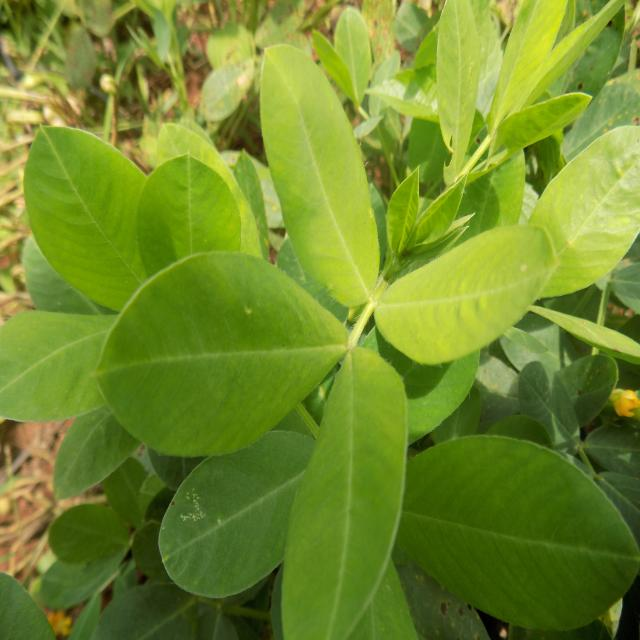Ground nut_healthy: (381, 432, 640, 627), (104, 254, 350, 455), (283, 346, 408, 640), (255, 43, 382, 307), (158, 428, 338, 598), (24, 128, 179, 315), (375, 222, 552, 356), (514, 128, 640, 299)
